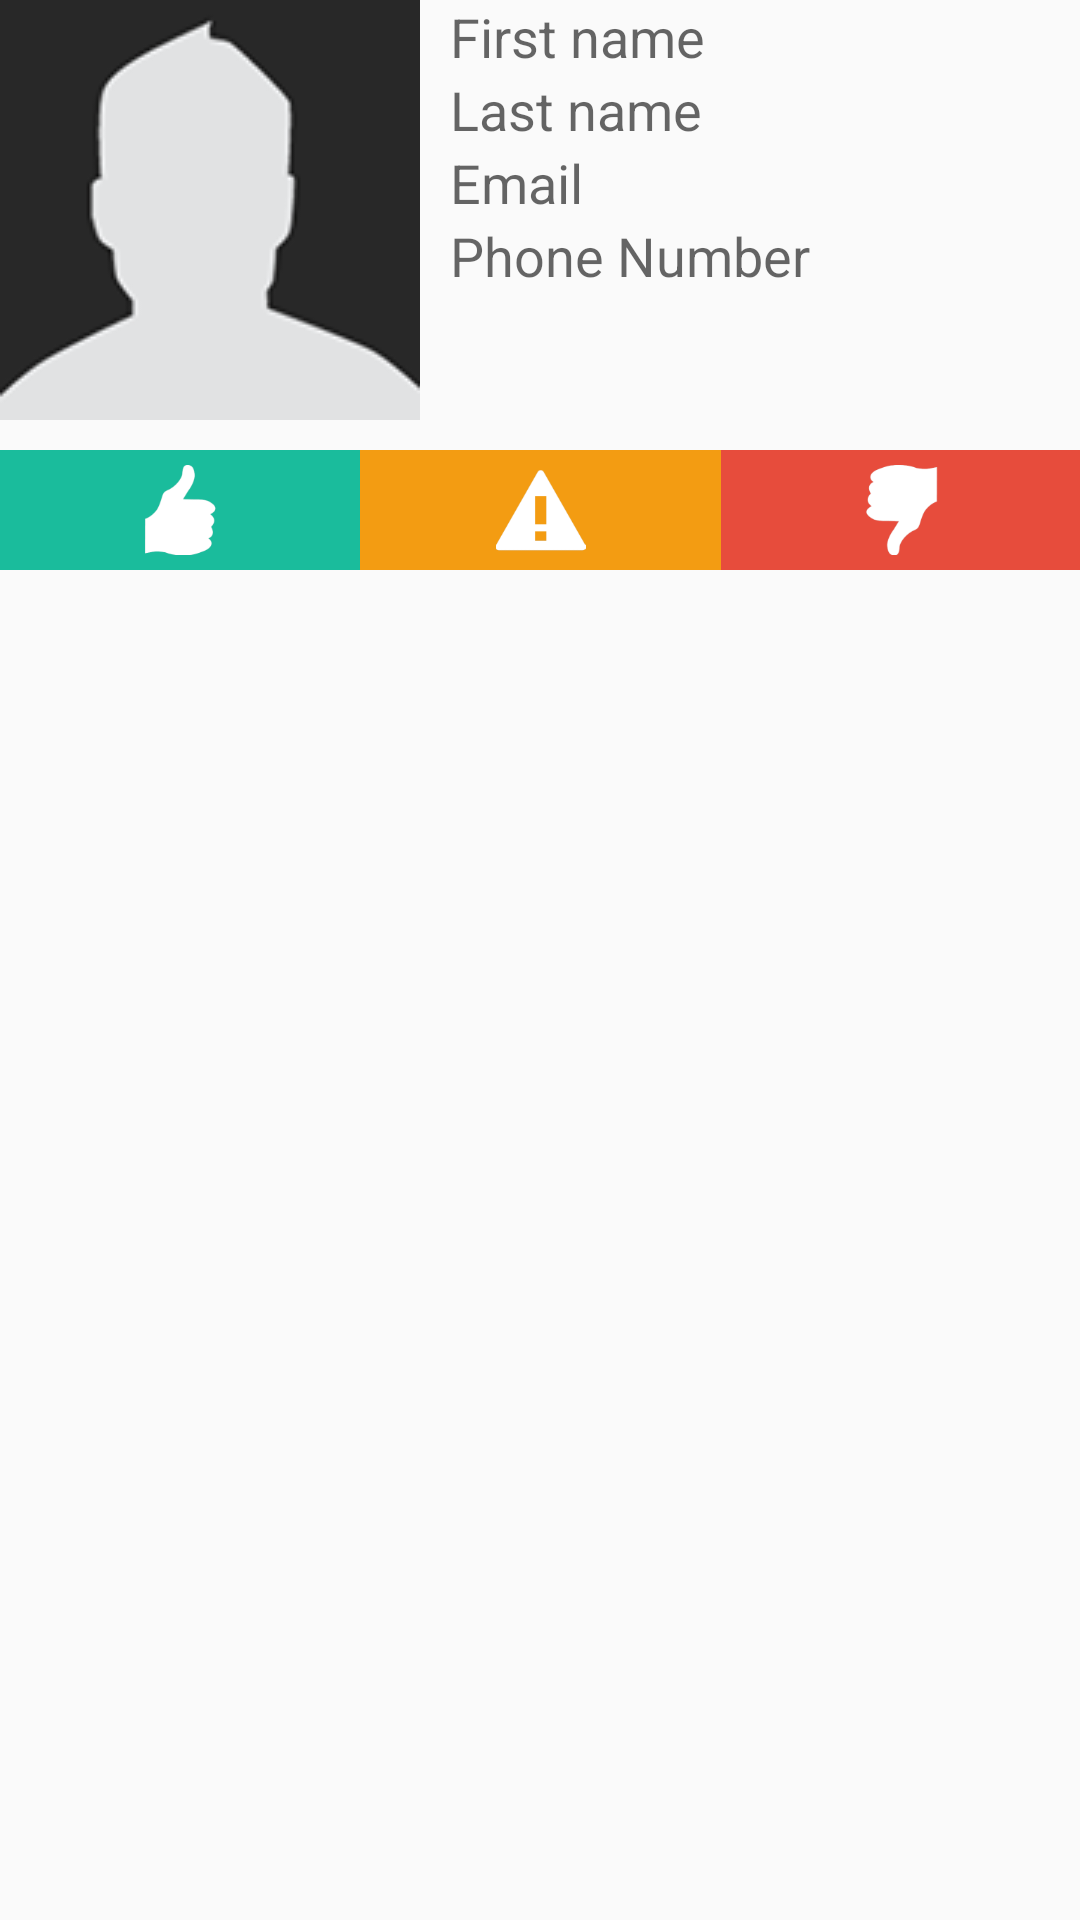

Named icons in this screenshot (1080w x 1920h) and their centers, point (x, y):
thumbs down: point (900, 510)
thumbs up: point (180, 510)
